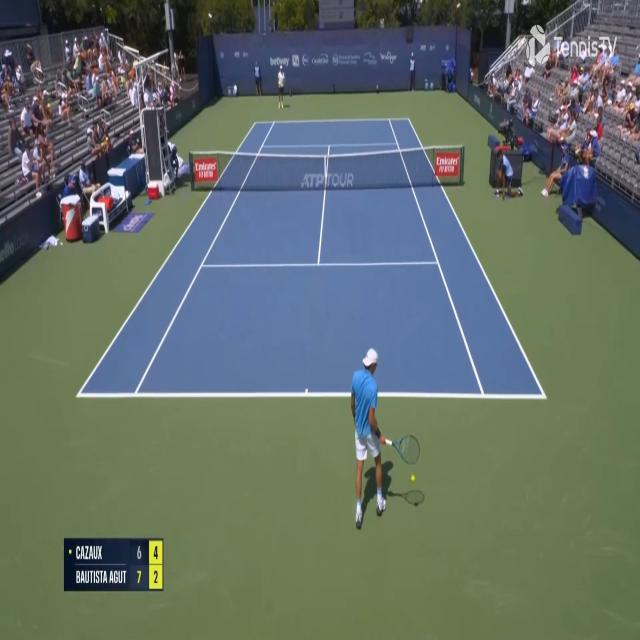tennis-player: (348, 344, 420, 525), (276, 67, 289, 108)
